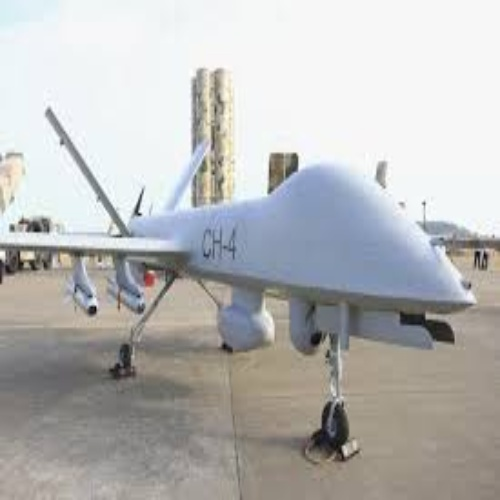uav232: (5, 107, 480, 456)
